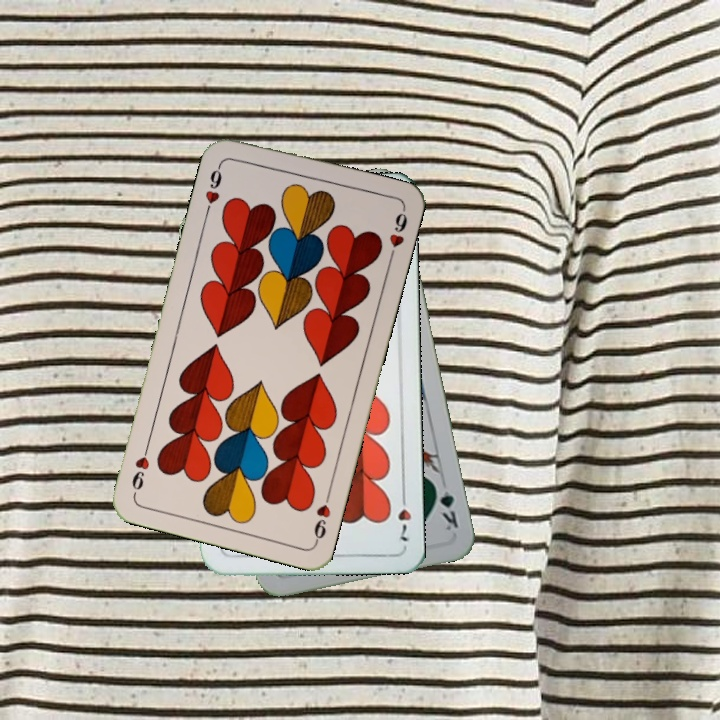GK: (430, 478, 461, 533)
H7: (394, 488, 414, 545)
H9: (201, 158, 226, 216), (310, 487, 333, 545)
